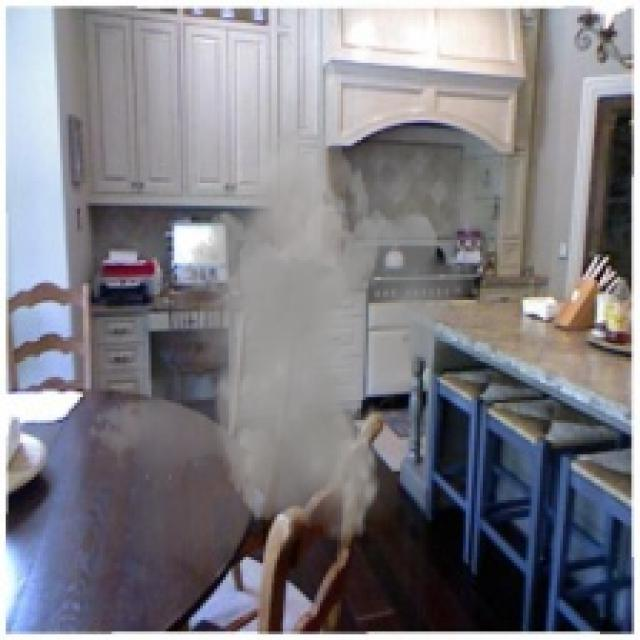Smoke: (86, 126, 488, 543)
